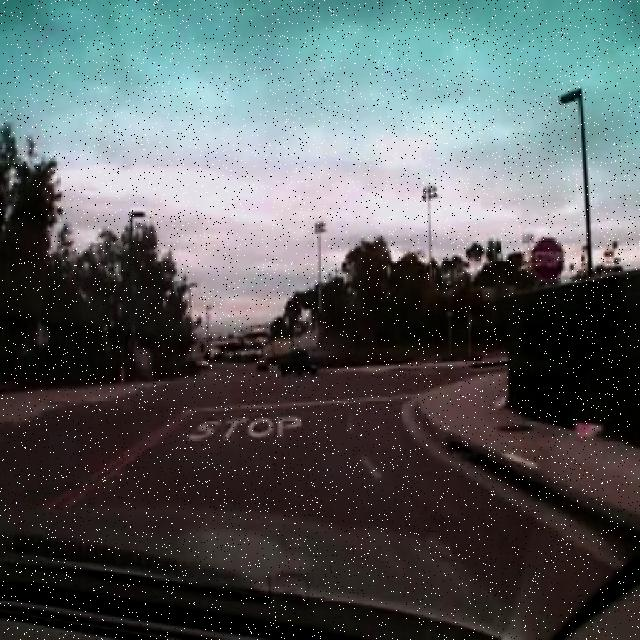Stop: (530, 235, 567, 287)
